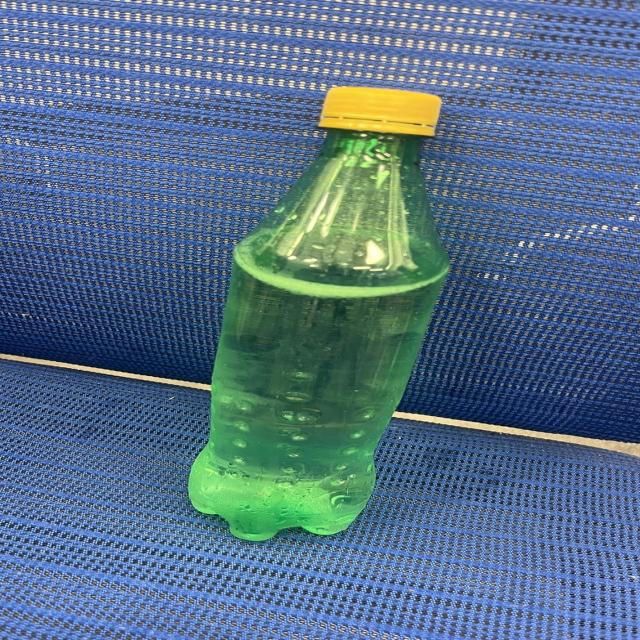high: (189, 87, 448, 541)
